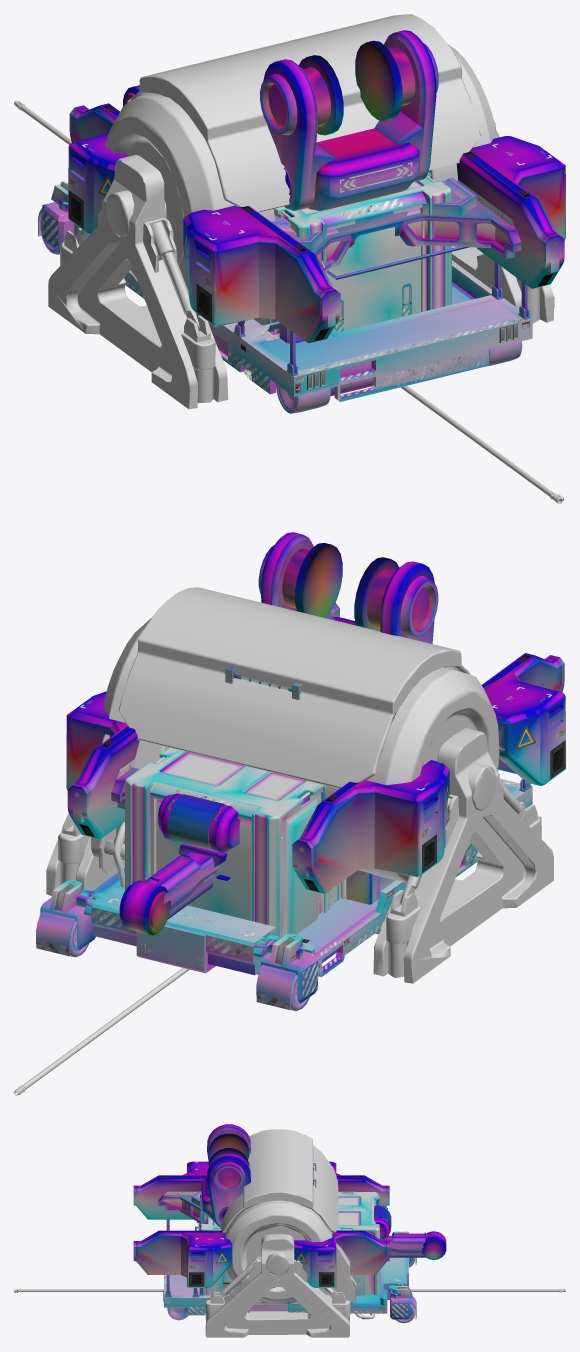
File: dienst.glb
The picture shows the model from 3 angles, top to bottom: view 1: azimuth 30°, elevation 25°; view 2: azimuth 150°, elevation 25°; view 3: azimuth 270°, elevation 25°; orthographic projection. The views are drawn at different scales.
Visible parts, largest first — view 1: prop_werkzeug_crane_welding_arm_1_a, prop_schlauch_hose_reel_1_065x045x045_a, prop_transport_trolley_cargo_1_a, prop_lager_storage_container_1_025x05x025_a, prop_schlauch_maintenance_hose_1_a; view 2: prop_schlauch_hose_reel_1_065x045x045_a, prop_werkzeug_crane_welding_arm_1_a, prop_lager_storage_container_1_025x05x025_a, prop_transport_trolley_cargo_1_a, prop_schlauch_maintenance_hose_1_a, prop_energie_generator_mobile_1_b; view 3: prop_schlauch_hose_reel_1_065x045x045_a, prop_werkzeug_crane_welding_arm_1_a, prop_transport_trolley_cargo_1_a, prop_lager_storage_container_1_025x05x025_a, prop_schlauch_maintenance_hose_1_a.
Part boxes in pixels (x1,y1,x2,y2): prop_werkzeug_crane_welding_arm_1_a: [68, 30, 565, 343]; prop_schlauch_hose_reel_1_065x045x045_a: [48, 14, 554, 409]; prop_transport_trolley_cargo_1_a: [38, 181, 532, 413]; prop_lager_storage_container_1_025x05x025_a: [127, 98, 451, 330]; prop_schlauch_maintenance_hose_1_a: [14, 100, 563, 503]; prop_schlauch_hose_reel_1_065x045x045_a: [46, 587, 553, 983]; prop_werkzeug_crane_welding_arm_1_a: [66, 532, 565, 935]; prop_lager_storage_container_1_025x05x025_a: [125, 747, 341, 974]; prop_transport_trolley_cargo_1_a: [36, 778, 532, 1011]; prop_schlauch_maintenance_hose_1_a: [14, 691, 564, 1095]; prop_energie_generator_mobile_1_b: [337, 870, 395, 904]; prop_schlauch_hose_reel_1_065x045x045_a: [205, 1129, 374, 1337]; prop_werkzeug_crane_welding_arm_1_a: [133, 1124, 446, 1287]; prop_transport_trolley_cargo_1_a: [163, 1217, 416, 1323]; prop_lager_storage_container_1_025x05x025_a: [200, 1192, 379, 1295]; prop_schlauch_maintenance_hose_1_a: [14, 1288, 565, 1292].
Size of the model in its own units: 6 by 4.66 by 15.32.
Materials: 45 (42 with a texture image).
